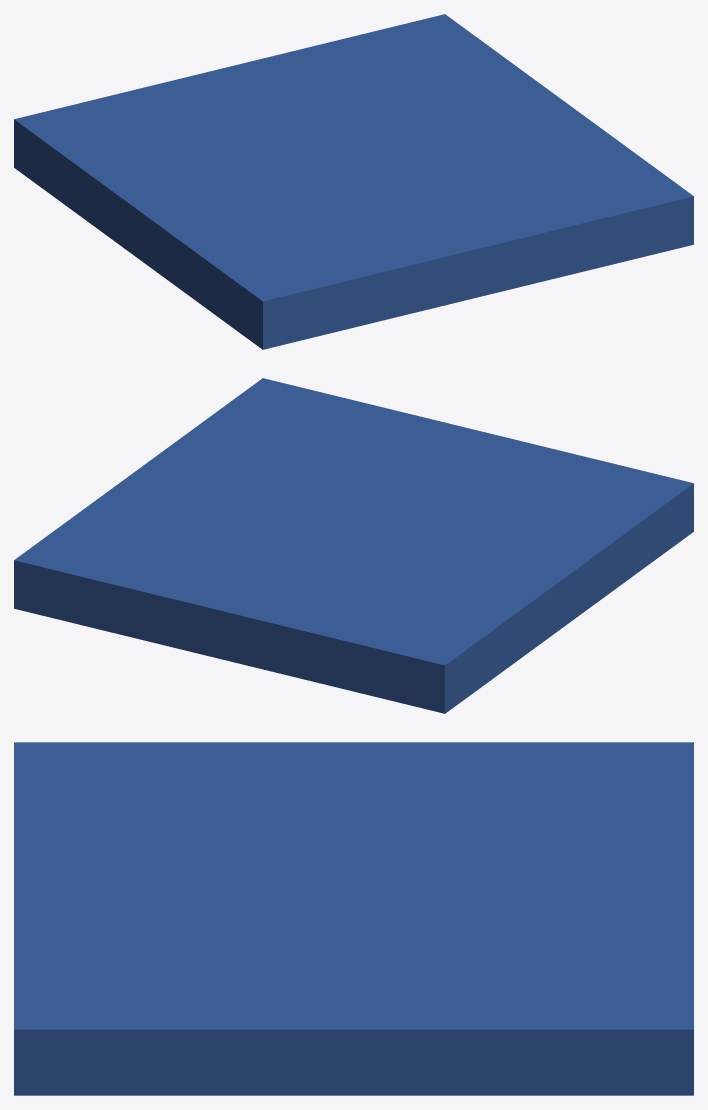
The model's file is zemin (tuğla) şeffaf.fbx.
3 views of the same model, one above another, from view 1: azimuth 30°, elevation 25°; view 2: azimuth 150°, elevation 25°; view 3: azimuth 270°, elevation 25° (orthographic). The views are drawn at different scales.
Visible parts, largest first — view 1: SuKatmani; view 2: SuKatmani; view 3: SuKatmani.
Part boxes in pixels (x1,y1,x2,y2): SuKatmani: (14,14,693,349); SuKatmani: (14,378,693,713); SuKatmani: (14,742,693,1095).
Size of the model in its own units: 104 by 11.17 by 104.
2 materials, 2 textured.
